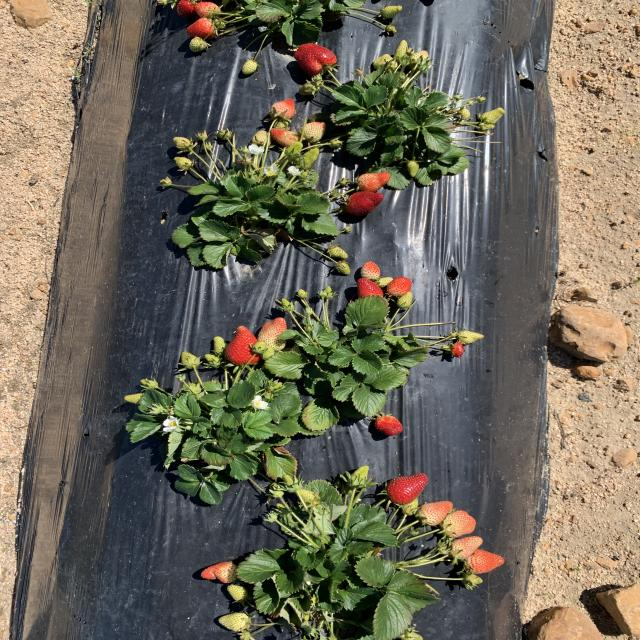unripe: (377, 473, 430, 505), (224, 324, 264, 366), (293, 42, 336, 75), (345, 191, 385, 217), (357, 277, 387, 309), (356, 171, 394, 192), (268, 96, 300, 120), (374, 413, 405, 436), (186, 16, 219, 36), (388, 275, 412, 301), (196, 0, 222, 17), (175, 0, 195, 18)
